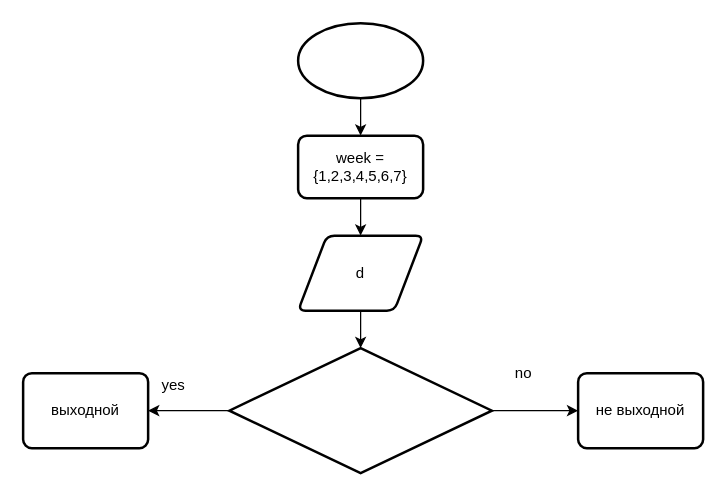
The diagram is 725 pixels wide and 495 high, and some of its shapes have lost their labels. Here are the shapes that lost their labels. From the top down, the centre of each, then its label:
At point 360,60: "start".
At point 360,410: "d == week[5] ||week[6]".
